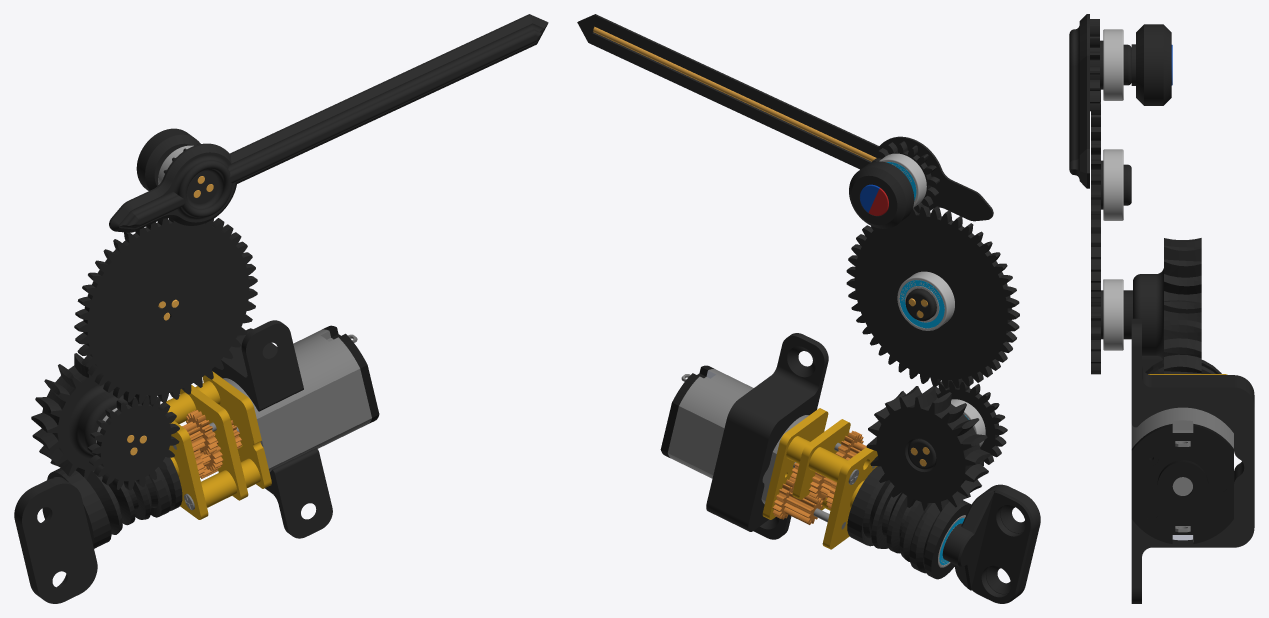
The model's file is tick_gear_with_motor_Compressed.glb.
3 views of the same model, side by side, from view 1: azimuth 30°, elevation 25°; view 2: azimuth 150°, elevation 25°; view 3: azimuth 270°, elevation 25° (orthographic). The views are drawn at different scales.
Visible parts, largest first — view 1: 45_1_gear, ticktock, MicroMotorN20.002, MotorHolder_back, worm_gear_shaft, Gobloid_wheel, 21_1_gear, Gobloid_worm, MicroMotorN20Pieza1.002, MicroMotorN20Pieza2.001, MicroMotorN20Pieza3, magnet_holder (+2 smaller); view 2: 45_1_gear, MotorHolder_back, ticktock, Gobloid_wheel, worm_gear_shaft, Gobloid_worm, MicroMotorN20.002, magnet_holder, 21_1_gear, MicroMotorN20Pieza3, MicroMotorN20Pieza1.002, MR74_bearing.003 (+7 smaller); view 3: MicroMotorN20, MotorHolder_back, Gobloid_wheel, ticktock, magnet_holder, 45_1_gear, MicroMotorN20.002, MR74_bearing.002, MR74_bearing.003, MR74_bearing.001, 16_1_gear, 21_1_gear (+1 smaller).
Part boxes in pixels (x1,y1,x2,y2): 45_1_gear: (74,218,257,404); ticktock: (109,14,548,232); MicroMotorN20.002: (223,329,371,471); MotorHolder_back: (212,320,332,538); worm_gear_shaft: (14,477,97,603); Gobloid_wheel: (31,353,127,479); 21_1_gear: (87,395,179,490); Gobloid_worm: (47,457,182,548); MicroMotorN20Pieza1.002: (202,371,271,488); MicroMotorN20Pieza2.001: (180,385,248,500); MicroMotorN20Pieza3: (169,421,208,519); magnet_holder: (136,128,200,190); 45_1_gear: (846,205,1019,388); MotorHolder_back: (706,333,828,539); ticktock: (577,14,993,221); Gobloid_wheel: (866,386,990,512); worm_gear_shaft: (942,484,1040,603); Gobloid_worm: (847,466,971,579); MicroMotorN20.002: (667,369,808,504); magnet_holder: (849,161,914,228); 21_1_gear: (908,380,1007,469); MicroMotorN20Pieza3: (822,447,877,549); MicroMotorN20Pieza1.002: (762,408,828,519); MR74_bearing.003: (897,271,954,330); MicroMotorN20: (1131,424,1233,543); MotorHolder_back: (1131,318,1254,603); Gobloid_wheel: (1123,238,1201,373); ticktock: (1069,14,1131,188); magnet_holder: (1131,24,1171,105); 45_1_gear: (1091,89,1131,305); MicroMotorN20.002: (1131,407,1233,541); MR74_bearing.002: (1103,29,1123,100); MR74_bearing.003: (1103,149,1123,220); MR74_bearing.001: (1103,279,1123,350); 16_1_gear: (1090,19,1103,111); 21_1_gear: (1091,290,1103,374).
Size of the model in its own units: 0.0669 by 0.062 by 0.0181.
